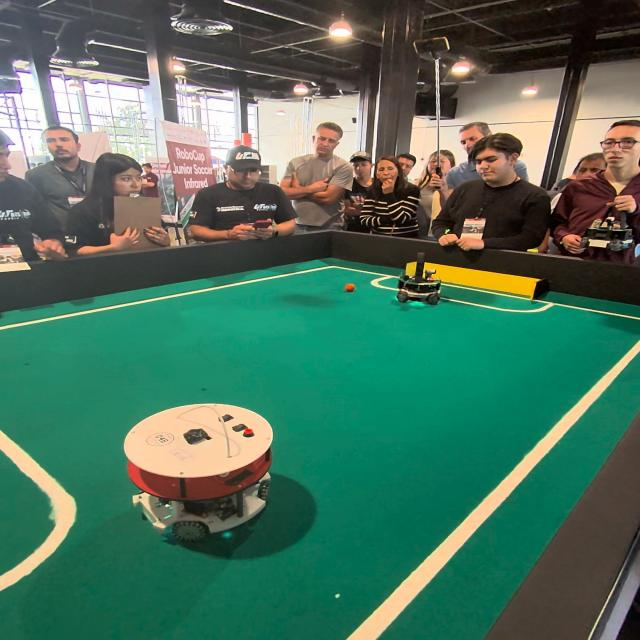Robot: (122, 394, 280, 563), (395, 252, 446, 313)
pelota: (340, 282, 356, 295)
